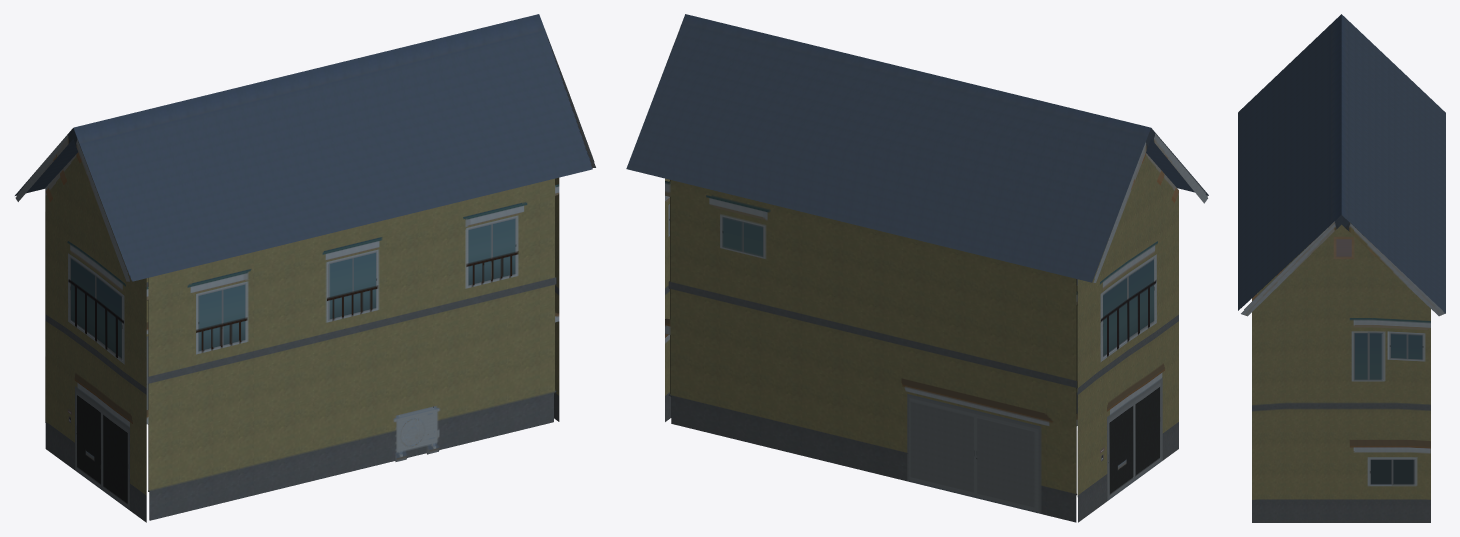
Rendered from house_004_low.fbx.
3 views of the same model, side by side, from view 1: azimuth 30°, elevation 25°; view 2: azimuth 150°, elevation 25°; view 3: azimuth 270°, elevation 25° (orthographic). The views are drawn at different scales.
Visible parts, largest first — view 1: pCube3; view 2: pCube3; view 3: pCube3.
Part boxes in pixels (bbox=[...]): pCube3: bbox=[15, 14, 595, 522]; pCube3: bbox=[626, 14, 1208, 522]; pCube3: bbox=[1238, 14, 1445, 522].
Size of the model in its own units: 7.61 by 5.68 by 3.33.
5 materials, 5 textured.
